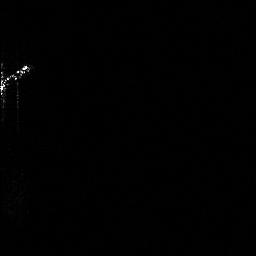ship: (1, 60, 33, 100)
